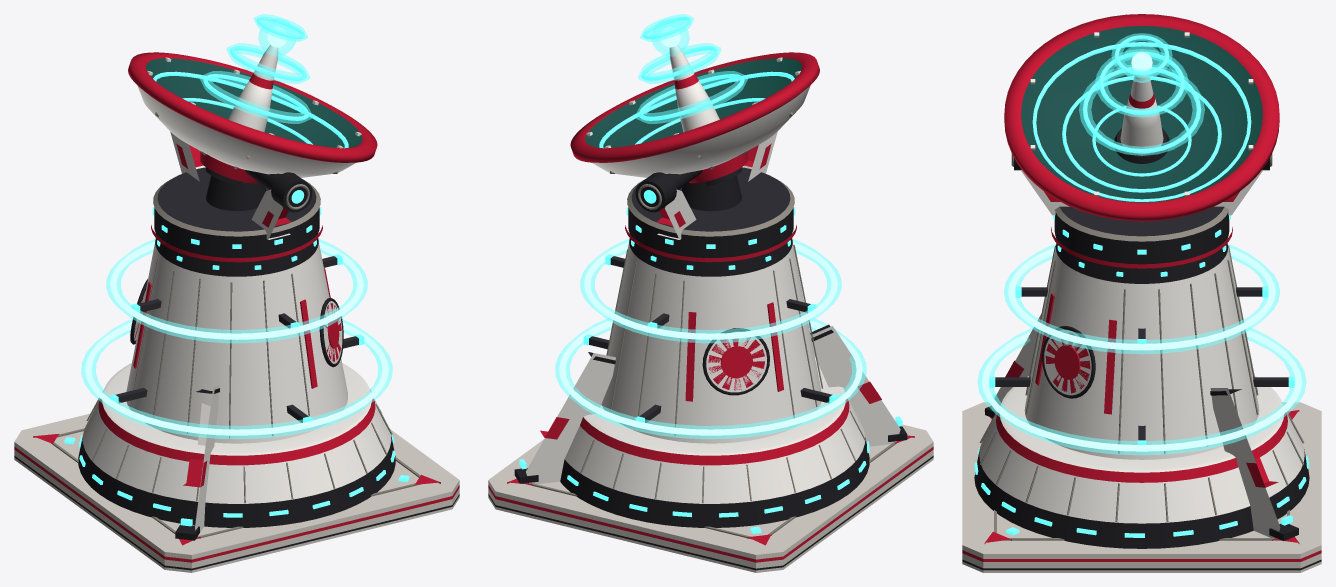
The model's file is JapanWaveCitadel.glb.
3 views of the same model, side by side, from view 1: azimuth 30°, elevation 25°; view 2: azimuth 150°, elevation 25°; view 3: azimuth 270°, elevation 25° (orthographic). The views are drawn at different scales.
Parts seen in each view (by area): view 1: Base, Emitter, Turret; view 2: Base, Emitter, Turret; view 3: Base, Emitter, Turret.
Part boxes in pixels (x1=…): Base: x1=14, y1=238, x2=459, y2=572; Emitter: x1=128, y1=14, x2=377, y2=189; Turret: x1=151, y1=132, x2=322, y2=262; Base: x1=488, y1=238, x2=933, y2=572; Emitter: x1=570, y1=14, x2=819, y2=189; Turret: x1=625, y1=132, x2=796, y2=262; Base: x1=962, y1=243, x2=1321, y2=572; Emitter: x1=1004, y1=14, x2=1279, y2=221; Turret: x1=1011, y1=153, x2=1272, y2=268.
Bounding box in the file's own units: 6 × 8.8 × 6.
